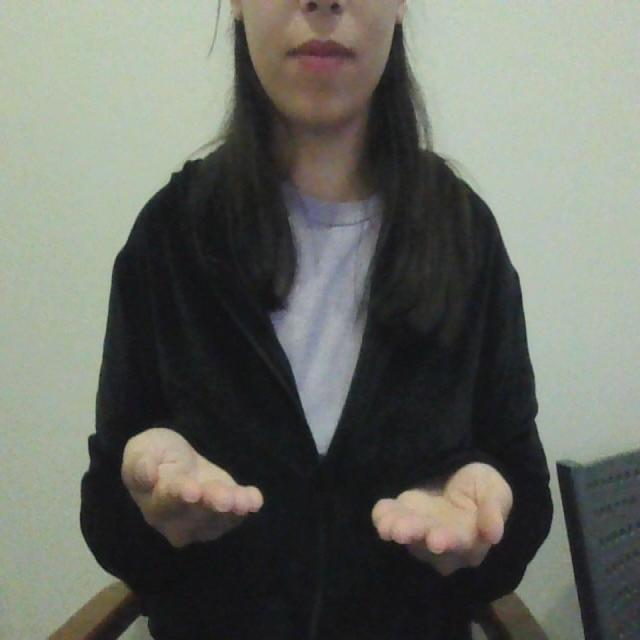Evet: (108, 425, 514, 580)
